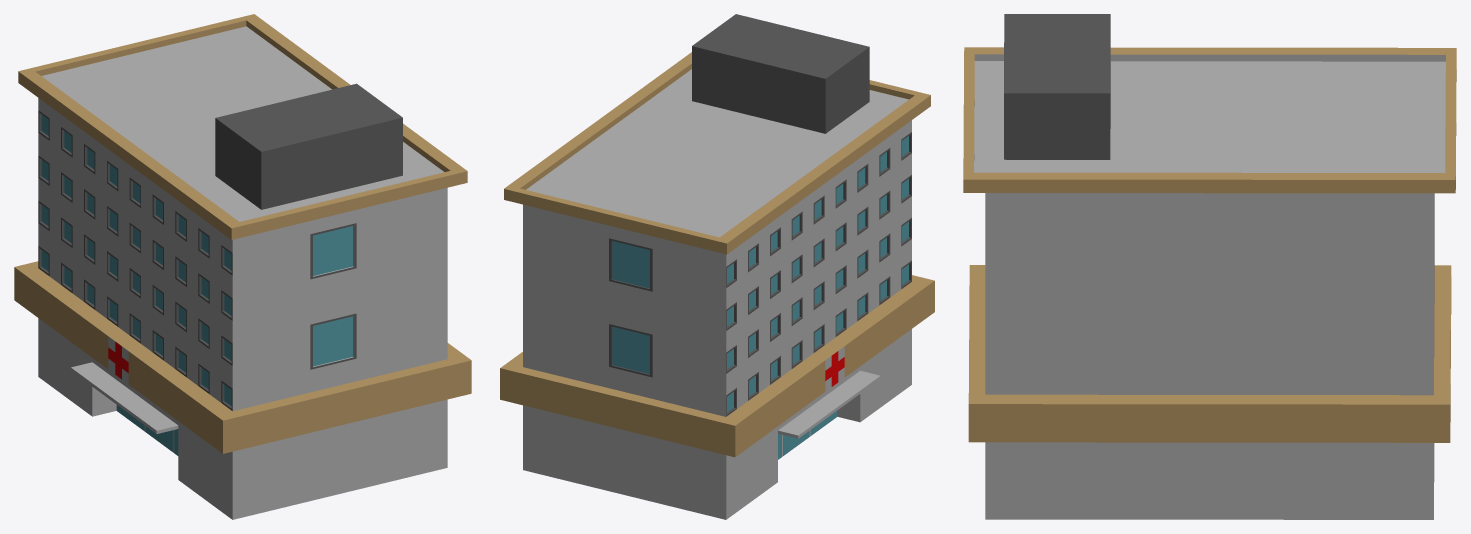
File: hospital.glb
3 renders of one model, left to right at view 1: azimuth 30°, elevation 25°; view 2: azimuth 150°, elevation 25°; view 3: azimuth 270°, elevation 25°, orthographic. The views are drawn at different scales.
Parts seen in each view (by area): view 1: Hospital; view 2: Hospital; view 3: Hospital.
Boxes of the visible parts, box(x1,y1,x2,y2) form: Hospital: box(14, 14, 471, 519); Hospital: box(500, 14, 934, 519); Hospital: box(963, 14, 1456, 519).
Size of the model in its own units: 120 by 160 by 176.
